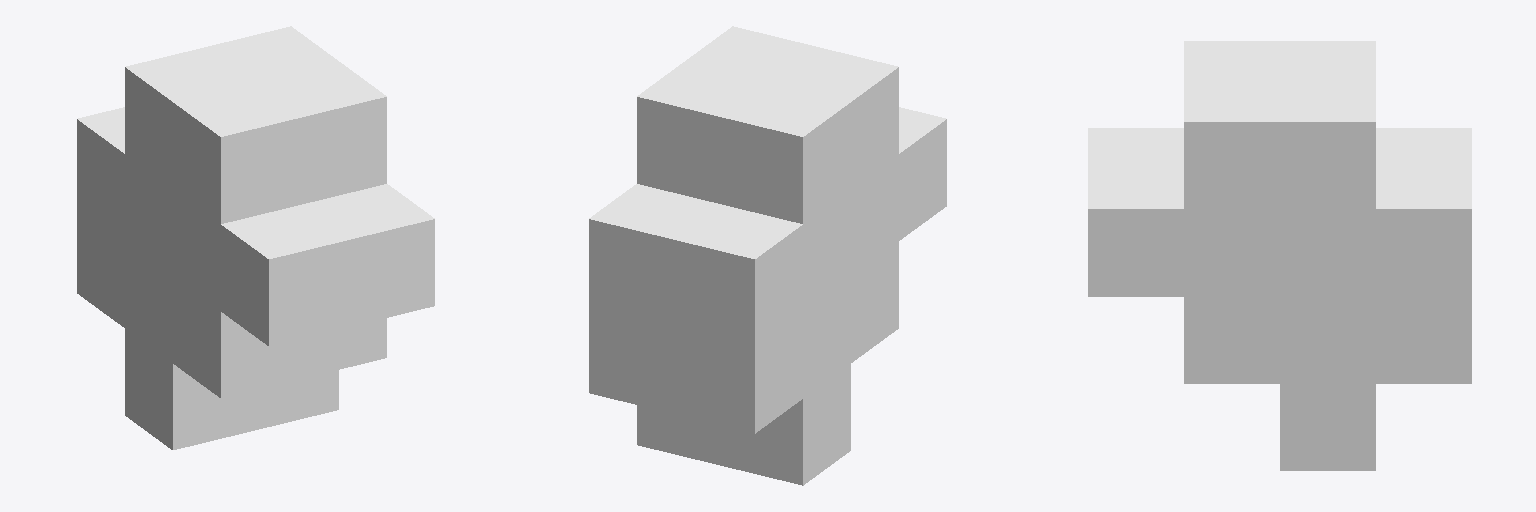
The model's file is farm-46-chicken_white.obj.
3 renders of one model, left to right at view 1: azimuth 30°, elevation 25°; view 2: azimuth 150°, elevation 25°; view 3: azimuth 270°, elevation 25°, orthographic.
Parts seen in each view (by area): view 1: chicken_white; view 2: chicken_white; view 3: chicken_white.
Part boxes in pixels (x1,y1,x2,y2): chicken_white: (77, 26, 434, 449); chicken_white: (589, 26, 946, 485); chicken_white: (1088, 41, 1471, 470).
Bounding box in the file's own units: 0.2 × 0.4 × 0.4.